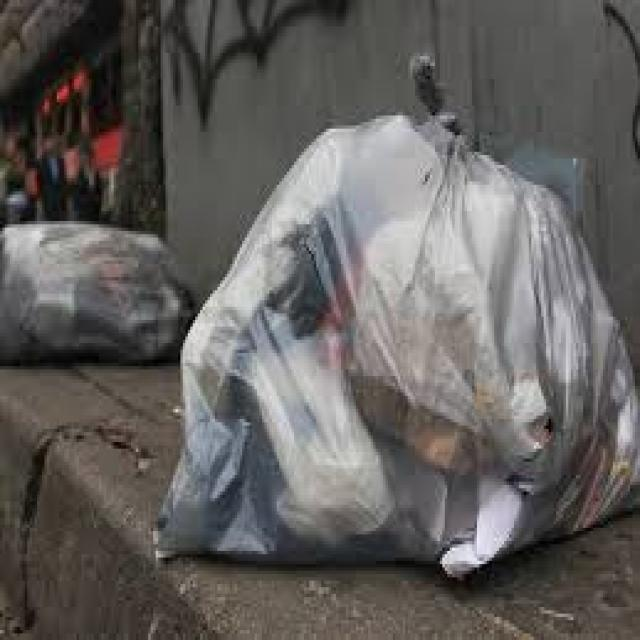garbage: (141, 64, 640, 627)
